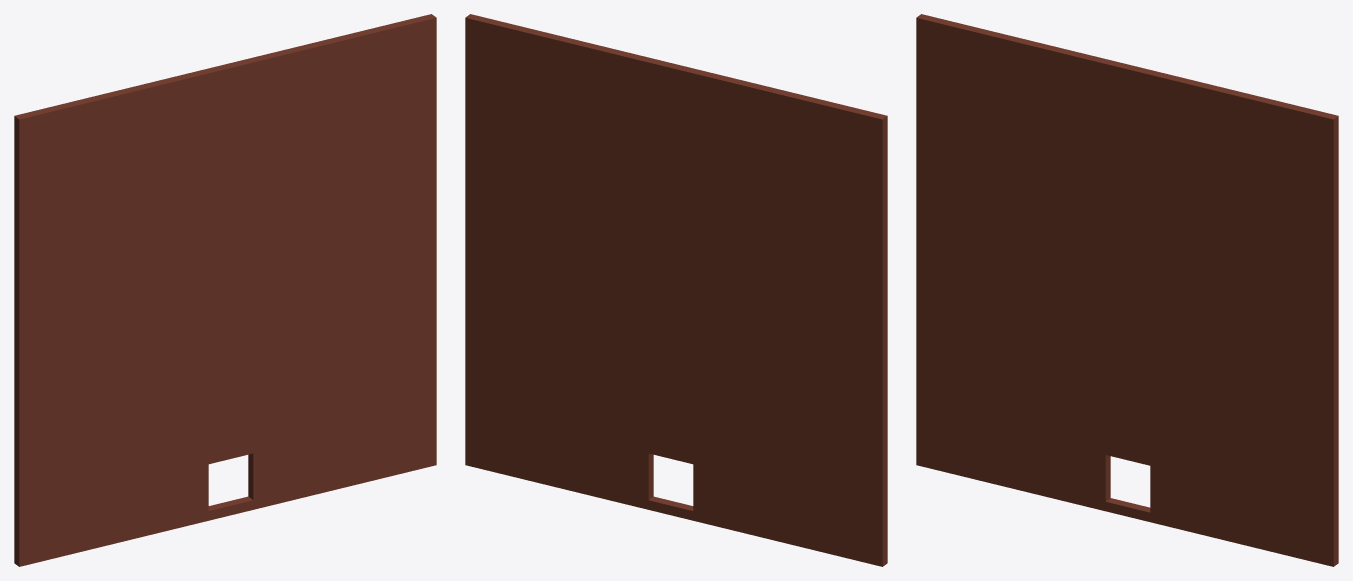
Rendered from libwall.fbx.
3 views of the same model, side by side, from view 1: azimuth 30°, elevation 25°; view 2: azimuth 150°, elevation 25°; view 3: azimuth 330°, elevation 25° (orthographic).
Visible parts, largest first — view 1: Floor.001; view 2: Floor.001; view 3: Floor.001.
Part boxes in pixels (x1,y1,x2,y2): Floor.001: [14, 14, 436, 566]; Floor.001: [465, 14, 887, 566]; Floor.001: [916, 14, 1338, 566].
Bounding box in the file's own units: 9427 × 9656 × 200.
